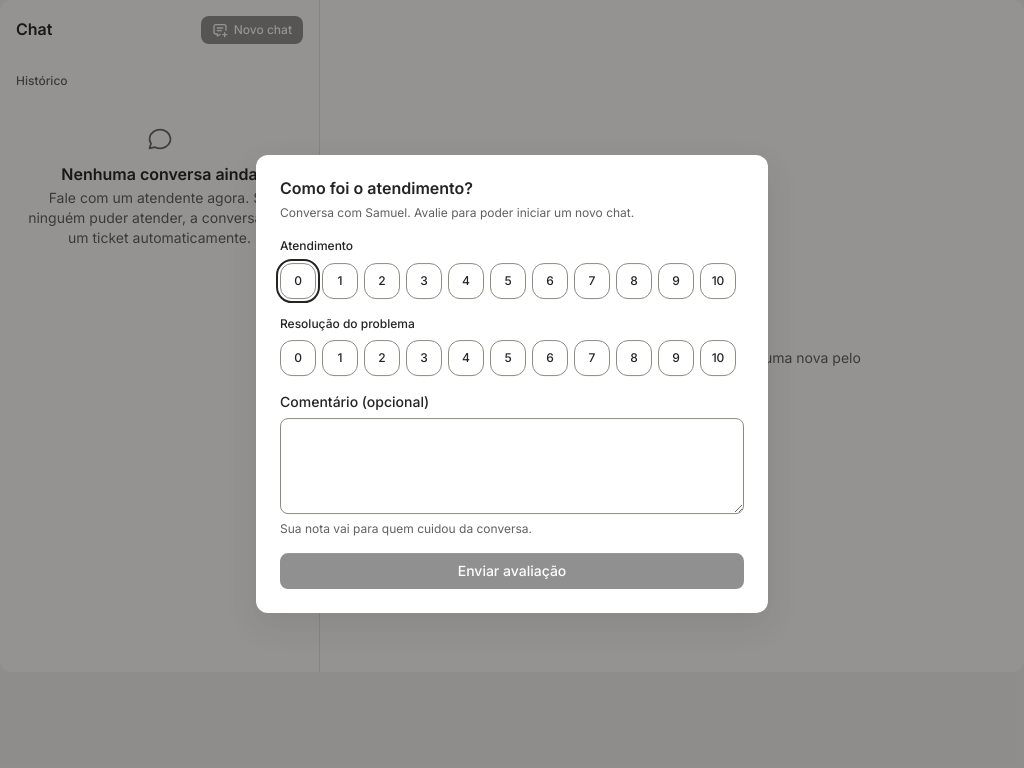
Test: PaginaChat (cliente) › avaliação: nota abaixa do gatilho exige justificativa antes de habilitar o envio
Check: the heading "Como foi o atendimento?" is shown, box [280, 178, 473, 198]
Click the 1st radio button labelled "9". click: {"x": 676, "y": 281}
box: [658, 263, 694, 299]
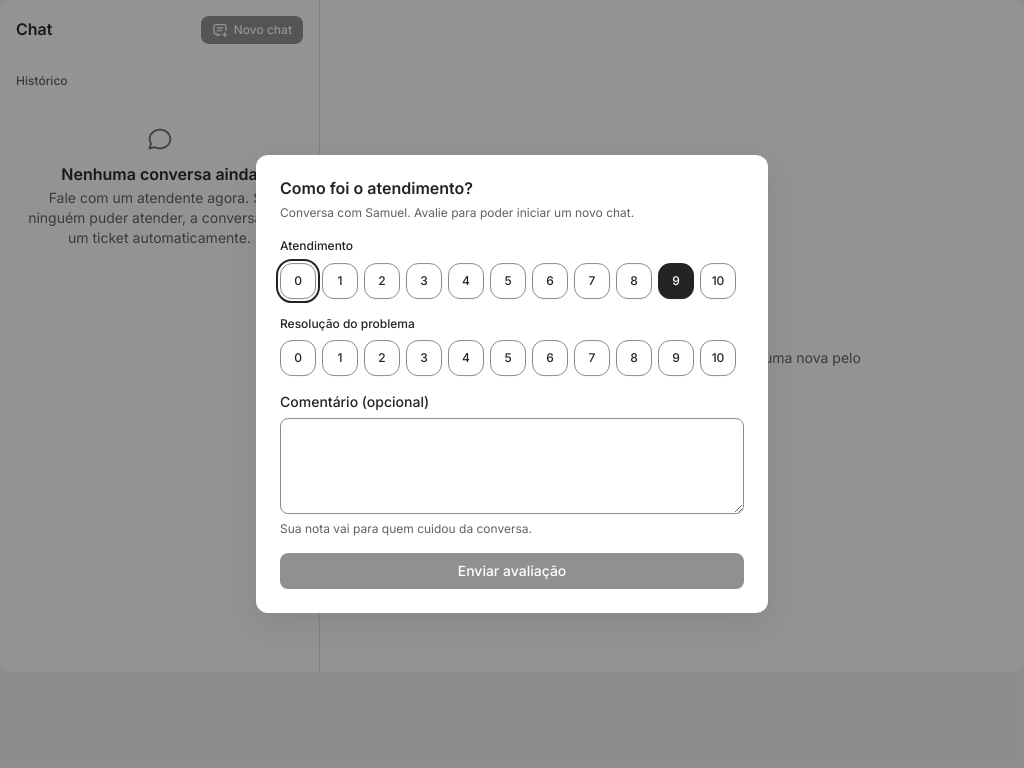
Click the radio button labelled "3" below "Resolução do problema". click: {"x": 424, "y": 358}
box: [406, 340, 442, 376]
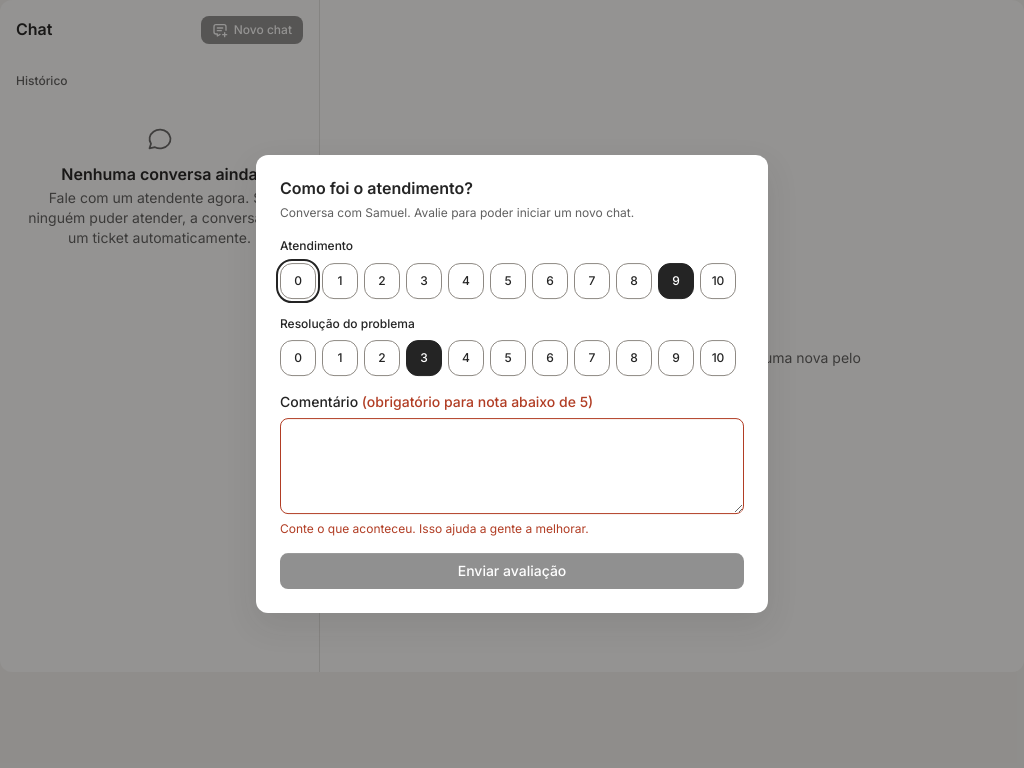
Check: the button "Enviar avaliação" is disabled, box [280, 553, 744, 589]
Type "Não resolveu o problema." into the text box labelled "Comentário (obrigatório para nota abaixo de 5)". click: {"x": 512, "y": 466}
box: [280, 418, 744, 514]
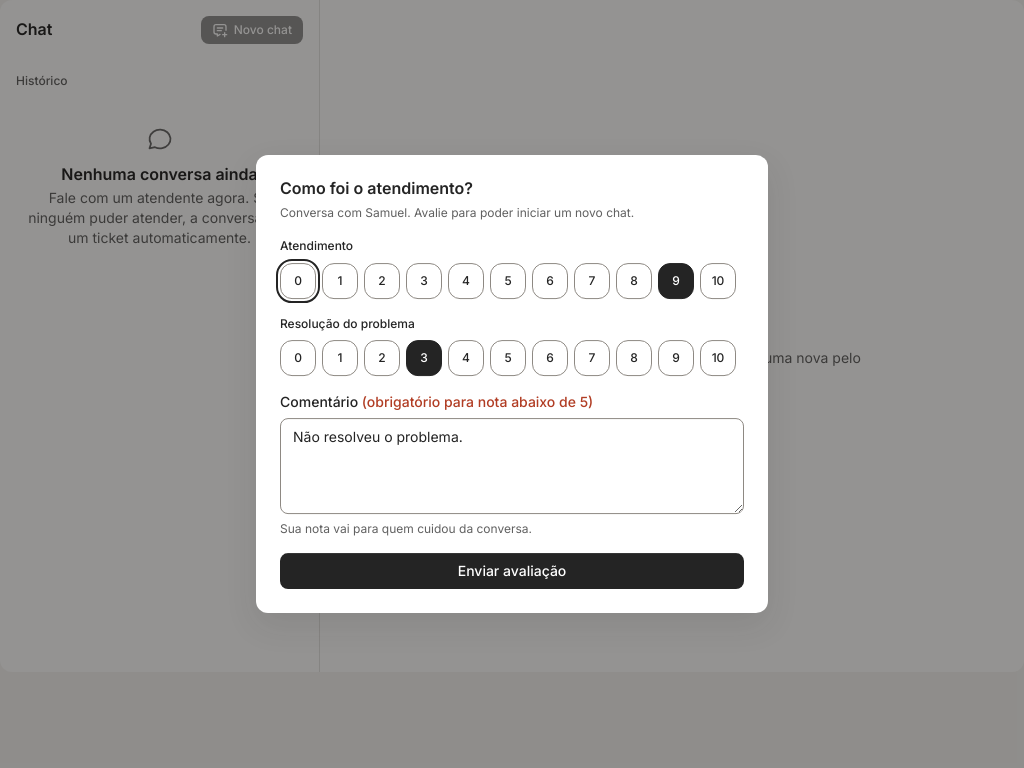
Check: the button "Enviar avaliação" is enabled, box [280, 553, 744, 589]
